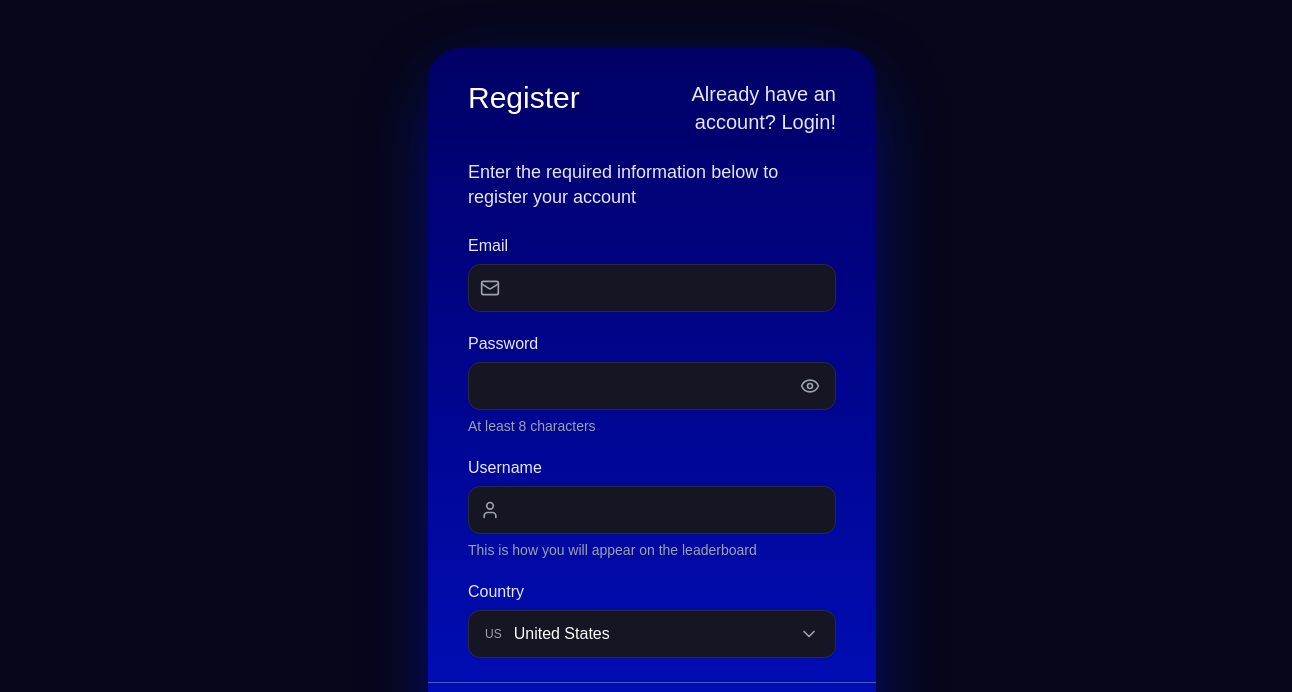
Test case: authentication › registers, signs in automatically and sends the selected country
Type "frank@test.local" into the field labelled "Email" at (652, 288), box left=468, top=264, right=836, bottom=312
Type "senha123" into the password field labelled "Password" at (652, 386), box left=468, top=362, right=836, bottom=410
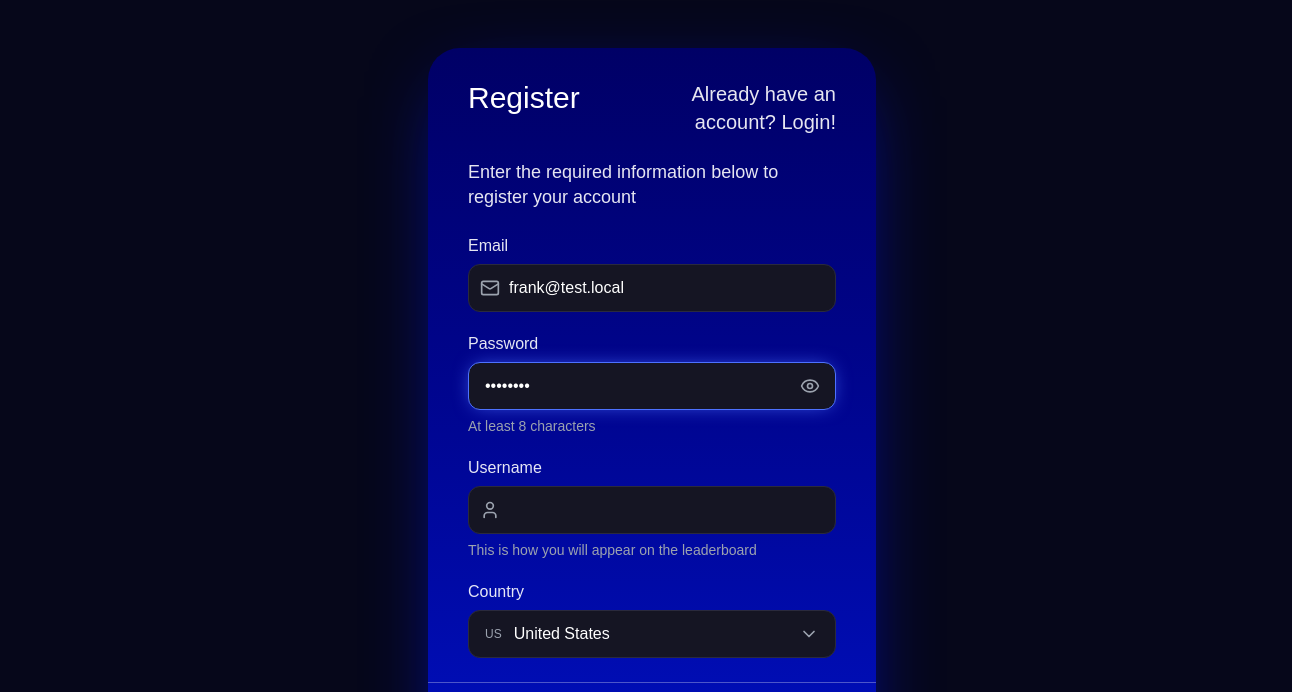
Type "frank" into the field labelled "Username" at (652, 510), box left=468, top=486, right=836, bottom=534
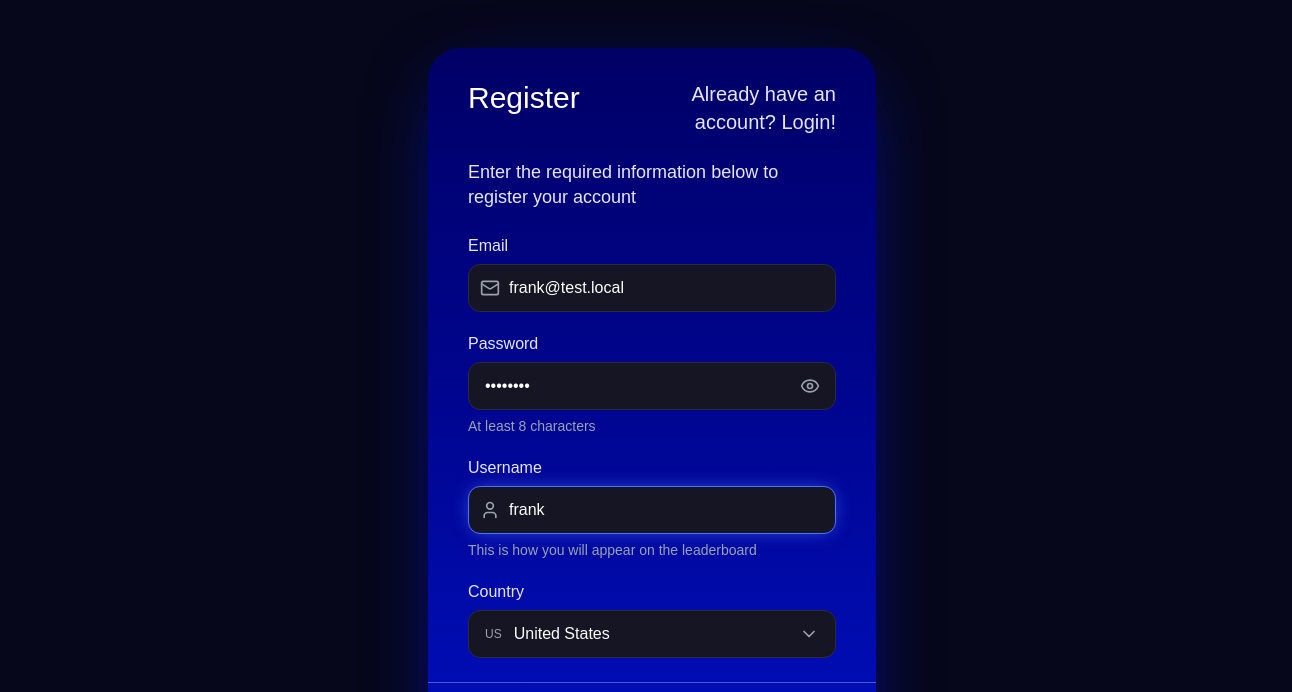
Click the button named "Country" at (562, 633), box left=468, top=610, right=836, bottom=658
(page scrolled)
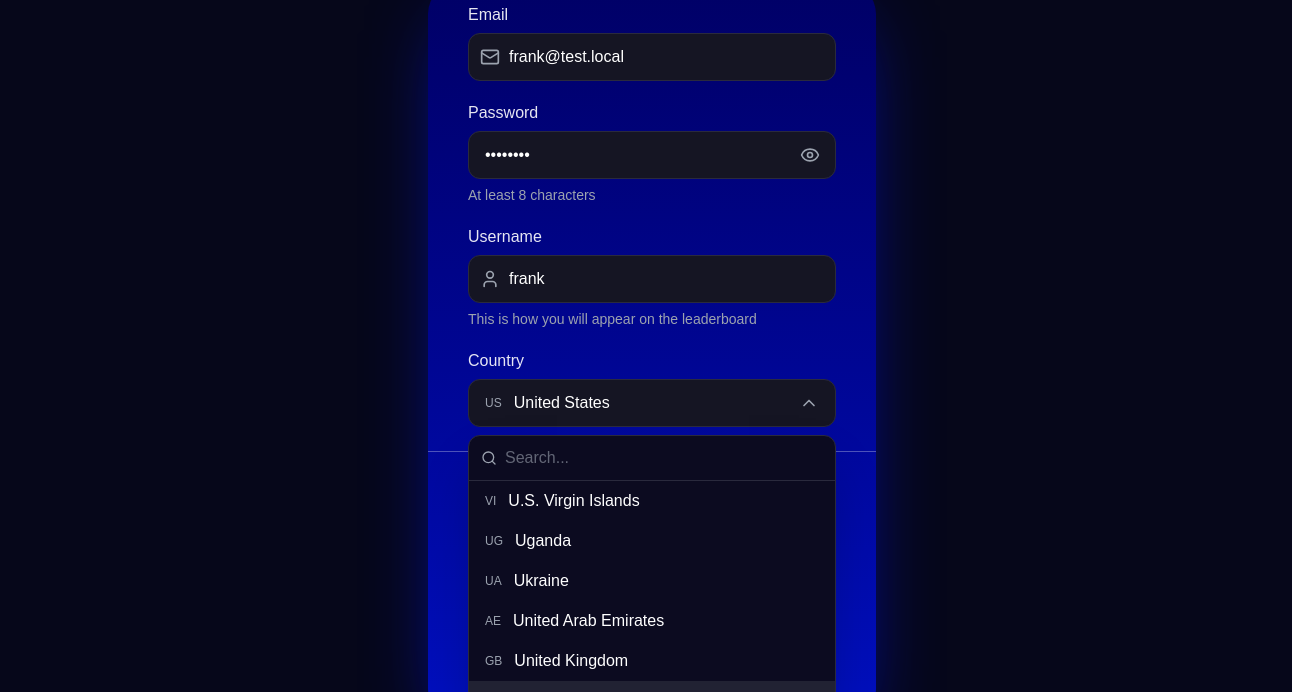
Type "portu" into the dropdown named "Search country" at (664, 458), box left=505, top=436, right=823, bottom=480
(page scrolled)
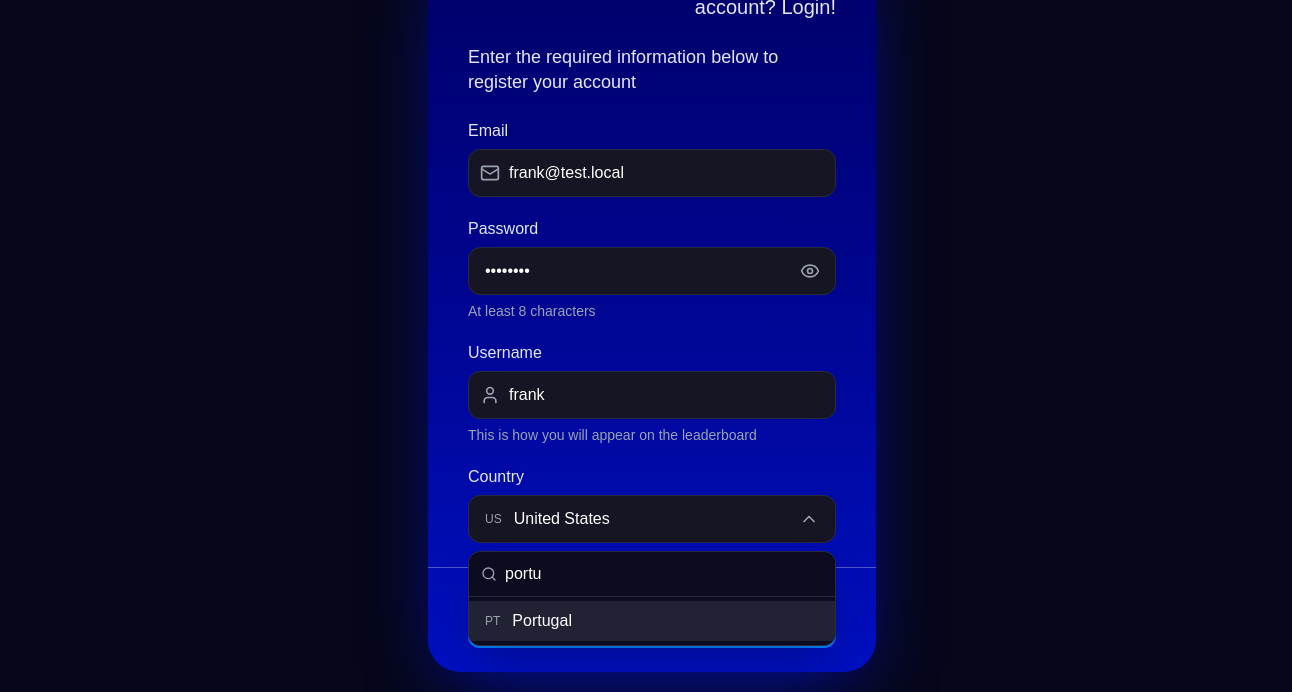
Click the option "PT Portugal" at (542, 620), box left=469, top=600, right=835, bottom=640
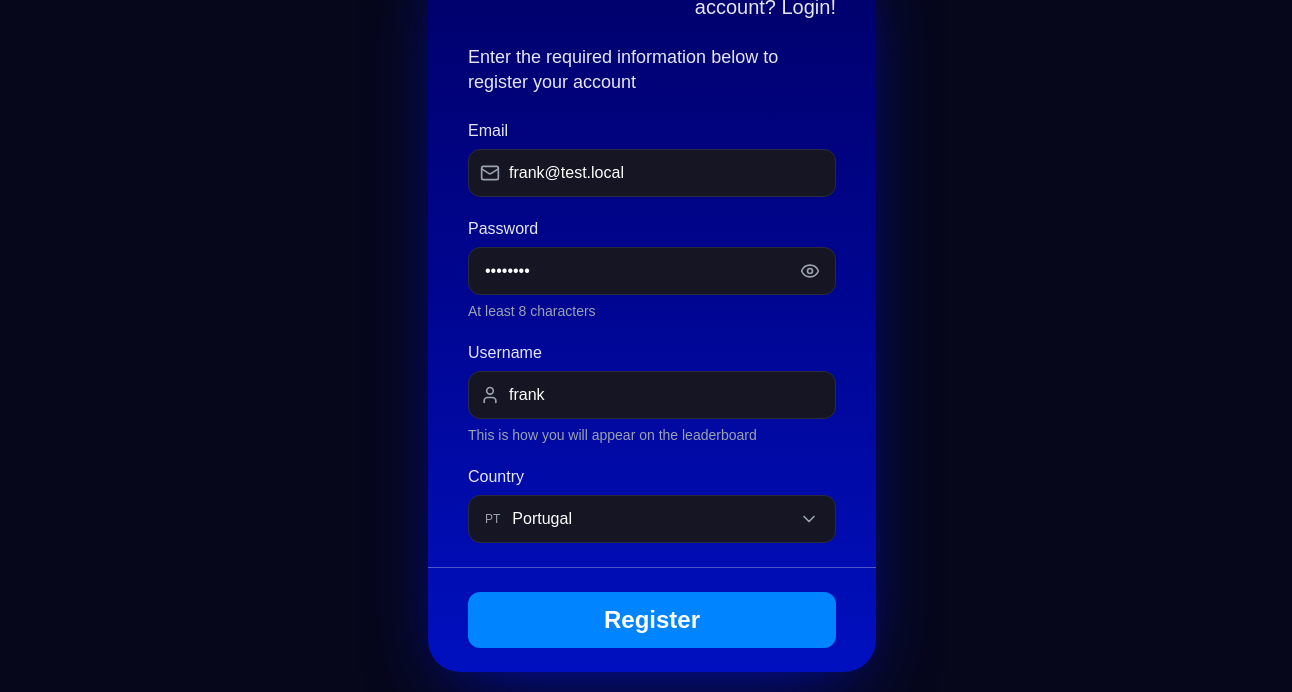
Click the button "Register" at (652, 620), box left=468, top=592, right=836, bottom=648
(page scrolled)
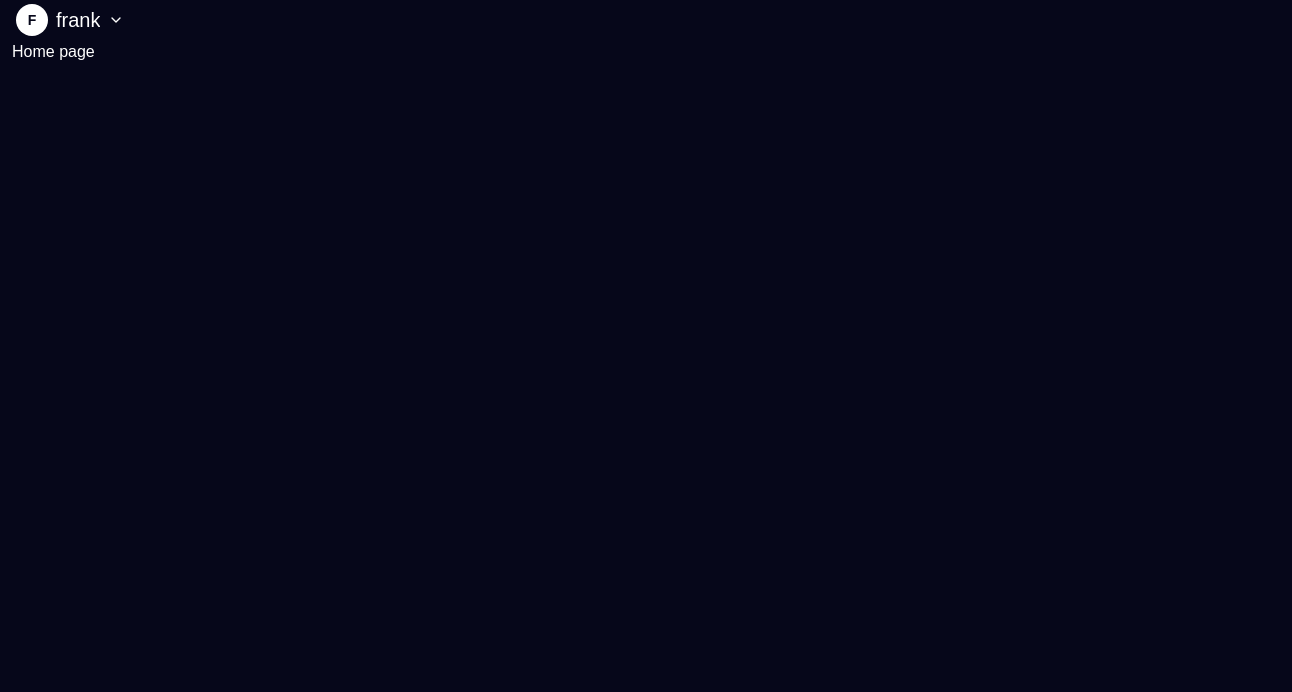
expect the text "Home page" is shown: met, box left=12, top=43, right=95, bottom=60
